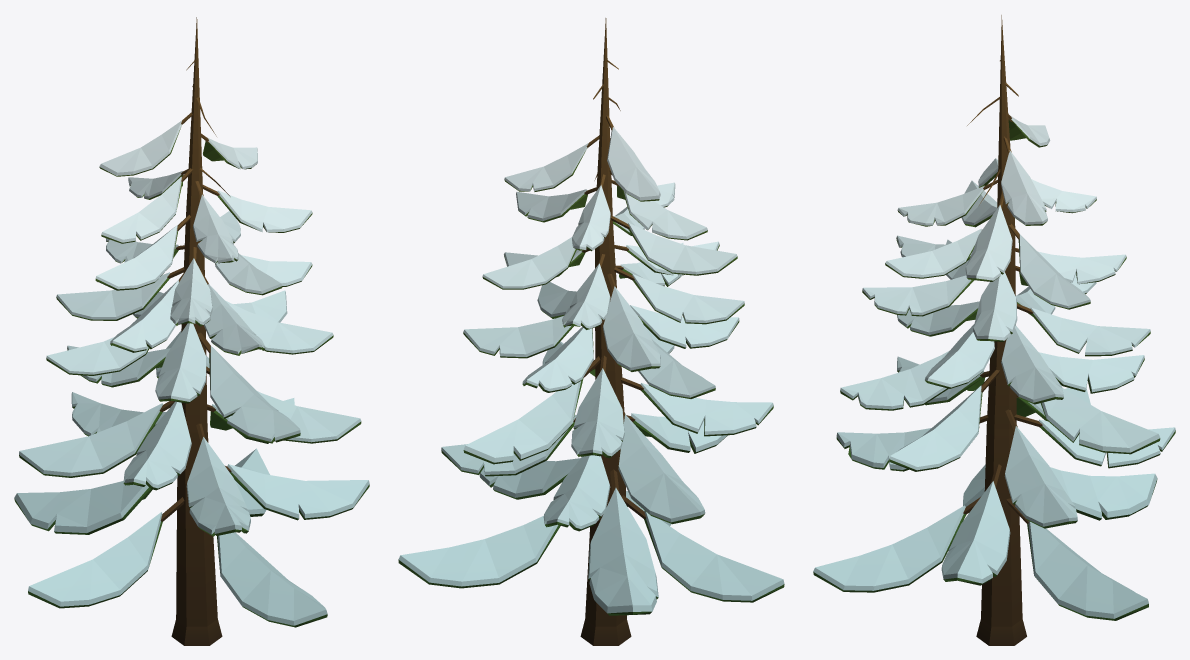
Rendered from Winter_Tree_06.glb.
3 views of the same model, side by side, from view 1: azimuth 30°, elevation 25°; view 2: azimuth 150°, elevation 25°; view 3: azimuth 270°, elevation 25° (orthographic).
Visible parts, largest first — view 1: Winter_Tree_06_LOD0; view 2: Winter_Tree_06_LOD0; view 3: Winter_Tree_06_LOD0.
Part boxes in pixels (left/top/right/bottom): Winter_Tree_06_LOD0: left=14, top=17, right=369, bottom=645; Winter_Tree_06_LOD0: left=398, top=18, right=784, bottom=645; Winter_Tree_06_LOD0: left=813, top=15, right=1175, bottom=645.
Size of what is drawn, in the model's own units: 3.04 by 5.57 by 2.94.
Materials: 1 (1 with a texture image).
